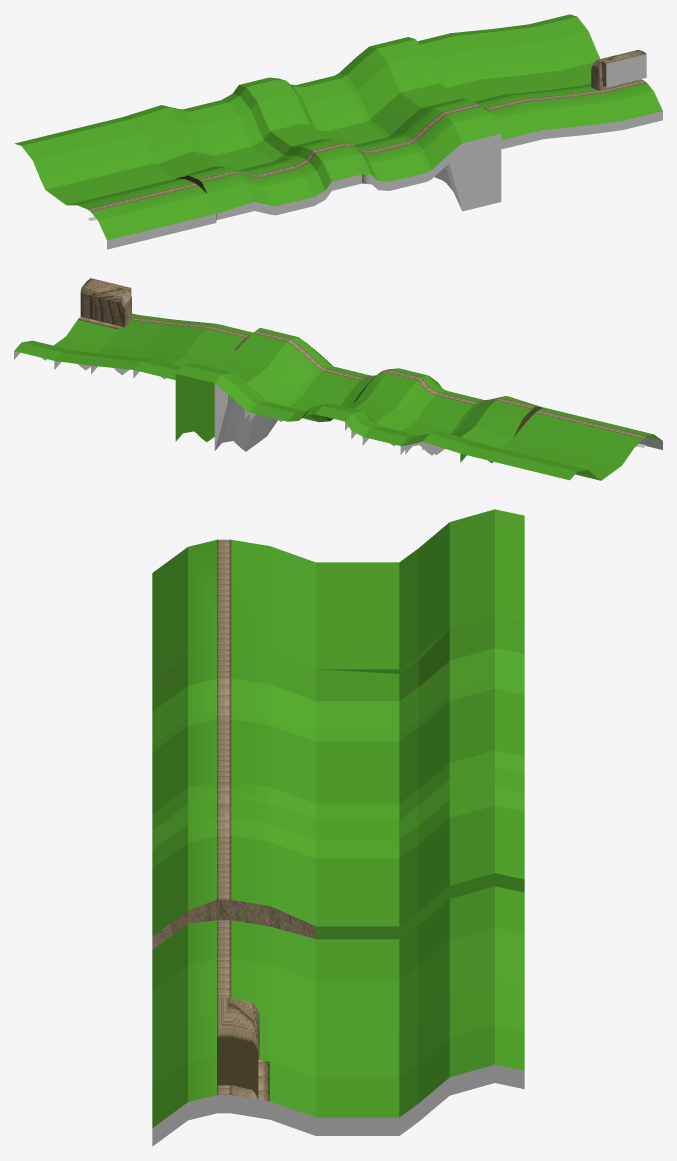
File: ready_for_atlas.fbx
3 renders of one model, top to bottom at view 1: azimuth 30°, elevation 25°; view 2: azimuth 150°, elevation 25°; view 3: azimuth 270°, elevation 25°, orthographic. The views are drawn at different scales.
Visible parts, largest first — view 1: Mesh (22); view 2: Mesh (22); view 3: Mesh (22).
Boxes of the visible parts, left/top/right/bottom form: Mesh (22): left=14, top=14, right=662, bottom=249; Mesh (22): left=14, top=278, right=662, bottom=480; Mesh (22): left=152, top=509, right=524, bottom=1146.
Bounding box in the file's own units: 133024 × 22883 × 38558.
Materials: 23 (2 with a texture image).
